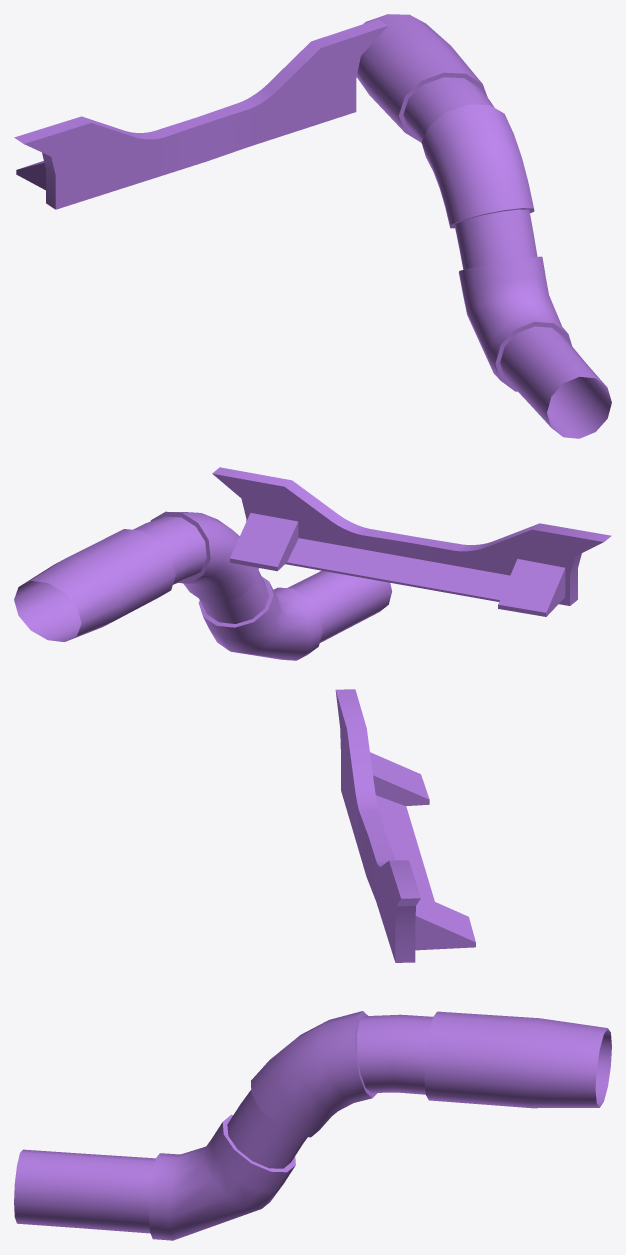
File: Pipe.fbx
3 views of the same model, one above another, from view 1: azimuth 30°, elevation 25°; view 2: azimuth 150°, elevation 25°; view 3: azimuth 270°, elevation 25° (orthographic). The views are drawn at different scales.
Visible parts, largest first — view 1: BezierCurve.001; view 2: BezierCurve.001; view 3: BezierCurve.001.
Part boxes in pixels (box(x1,y1,x2,y2)): BezierCurve.001: box(14, 14, 611, 438); BezierCurve.001: box(14, 467, 611, 660); BezierCurve.001: box(14, 689, 611, 1240).
Size of the model in its own units: 1201 by 636 by 1083.
